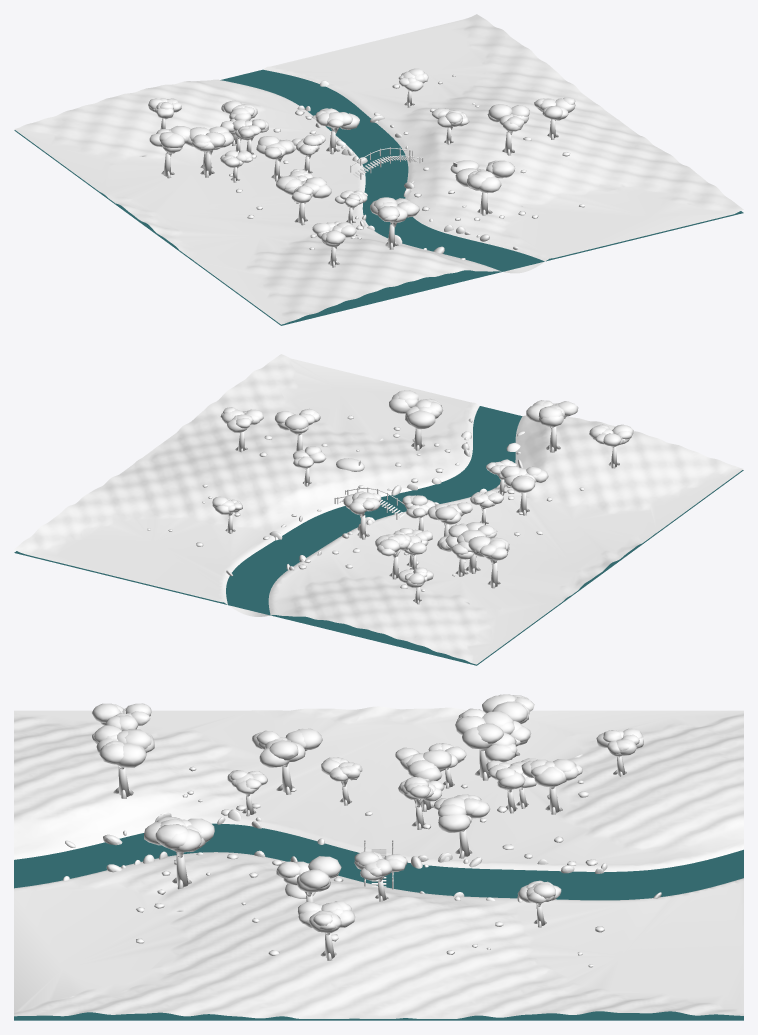
File: thanh_minh_scene.glb
3 renders of one model, top to bottom at view 1: azimuth 30°, elevation 25°; view 2: azimuth 150°, elevation 25°; view 3: azimuth 270°, elevation 25°, orthographic. The views are drawn at different scales.
Parts seen in each view (by area): view 1: Unified_Mat_DatCoChiTiet, MatNuocSuoi, Unified_Mat_LaXanh, Unified_Mat_HoaLeTrang, Unified_Mat_HoaDaoXuan, Unified_Mat_VoCayCoThu, Unified_Mat_DaCoReuPhong; view 2: Unified_Mat_DatCoChiTiet, MatNuocSuoi, Unified_Mat_LaXanh, Unified_Mat_HoaLeTrang, Unified_Mat_HoaDaoXuan, Unified_Mat_VoCayCoThu, Unified_Mat_DaCoReuPhong; view 3: Unified_Mat_DatCoChiTiet, MatNuocSuoi, Unified_Mat_HoaLeTrang, Unified_Mat_LaXanh, Unified_Mat_HoaDaoXuan, Unified_Mat_VoCayCoThu, Unified_Mat_DaCoReuPhong.
Boxes of the visible parts, x1,y1,x2,y2 form: Unified_Mat_DatCoChiTiet: (14,14,743,324); MatNuocSuoi: (14,69,743,325); Unified_Mat_LaXanh: (148,84,584,249); Unified_Mat_HoaLeTrang: (149,68,531,229); Unified_Mat_HoaDaoXuan: (185,100,359,246); Unified_Mat_VoCayCoThu: (160,90,558,267); Unified_Mat_DaCoReuPhong: (297,80,519,260); Unified_Mat_DatCoChiTiet: (14,354,743,664); MatNuocSuoi: (14,406,743,665); Unified_Mat_LaXanh: (196,390,584,591); Unified_Mat_HoaLeTrang: (147,446,548,569); Unified_Mat_HoaDaoXuan: (343,424,633,556); Unified_Mat_VoCayCoThu: (225,426,619,604); Unified_Mat_DaCoReuPhong: (226,418,524,575); Unified_Mat_DatCoChiTiet: (14,706,743,1018); MatNuocSuoi: (14,823,743,1020); Unified_Mat_HoaLeTrang: (221,694,596,967); Unified_Mat_LaXanh: (92,725,643,955); Unified_Mat_HoaDaoXuan: (92,703,582,832); Unified_Mat_VoCayCoThu: (113,749,626,960); Unified_Mat_DaCoReuPhong: (63,809,661,903).
Bounding box in the file's own units: 42 × 5.71 × 42.
